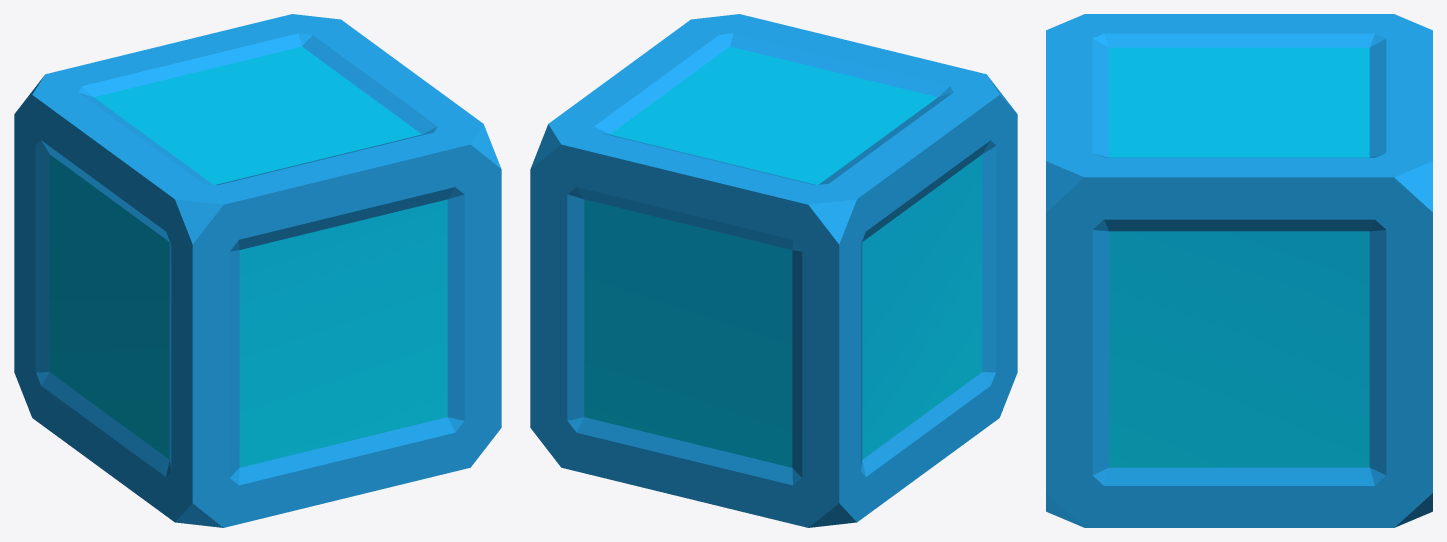
The model's file is Cubish.fbx.
The picture shows the model from 3 angles, left to right: view 1: azimuth 30°, elevation 25°; view 2: azimuth 150°, elevation 25°; view 3: azimuth 270°, elevation 25°; orthographic projection. The views are drawn at different scales.
Visible parts, largest first — view 1: Cube; view 2: Cube; view 3: Cube.
Part boxes in pixels (x1=…): Cube: x1=14, y1=14, x2=501, y2=527; Cube: x1=530, y1=14, x2=1017, y2=527; Cube: x1=1046, y1=14, x2=1432, y2=527.
Size of the model in its own units: 362 by 362 by 362.
